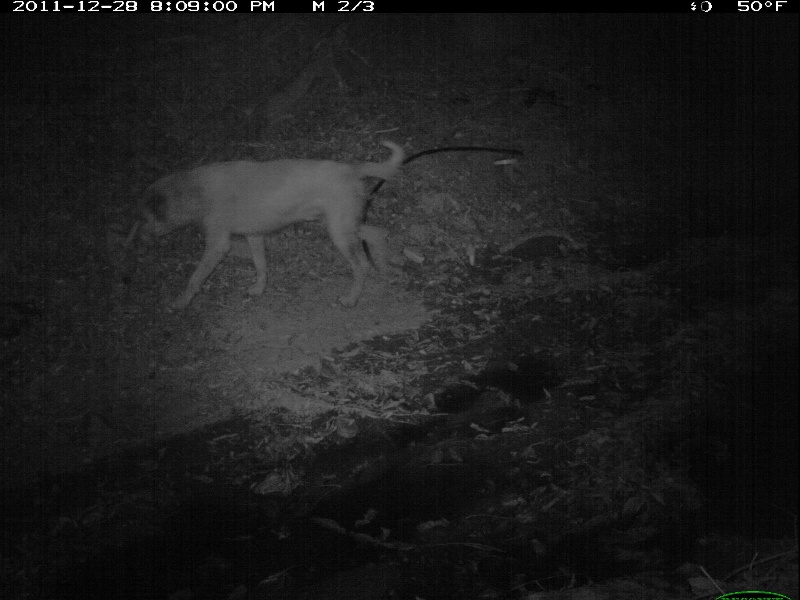dog: (130, 126, 409, 322)
